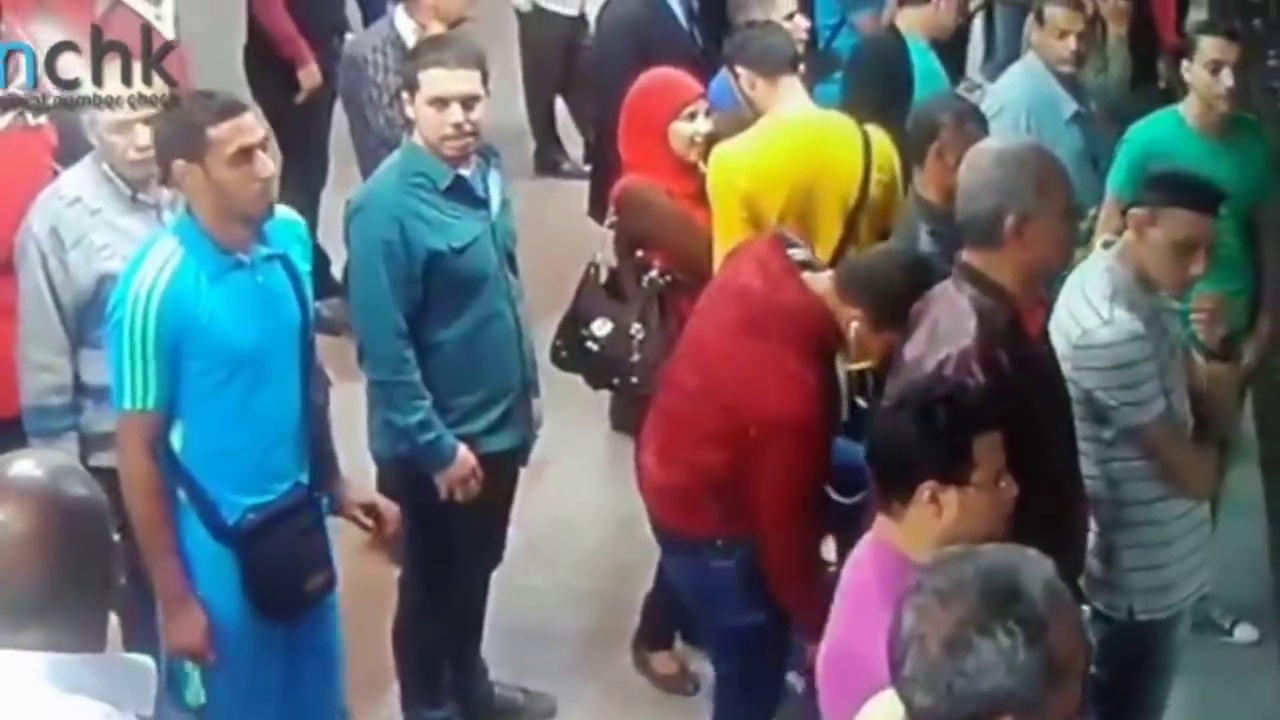face: (203, 138, 279, 224), (1152, 203, 1211, 308), (974, 438, 1024, 542), (415, 75, 484, 148), (96, 113, 157, 178), (1186, 46, 1240, 113), (1043, 2, 1094, 71), (668, 100, 716, 167)
